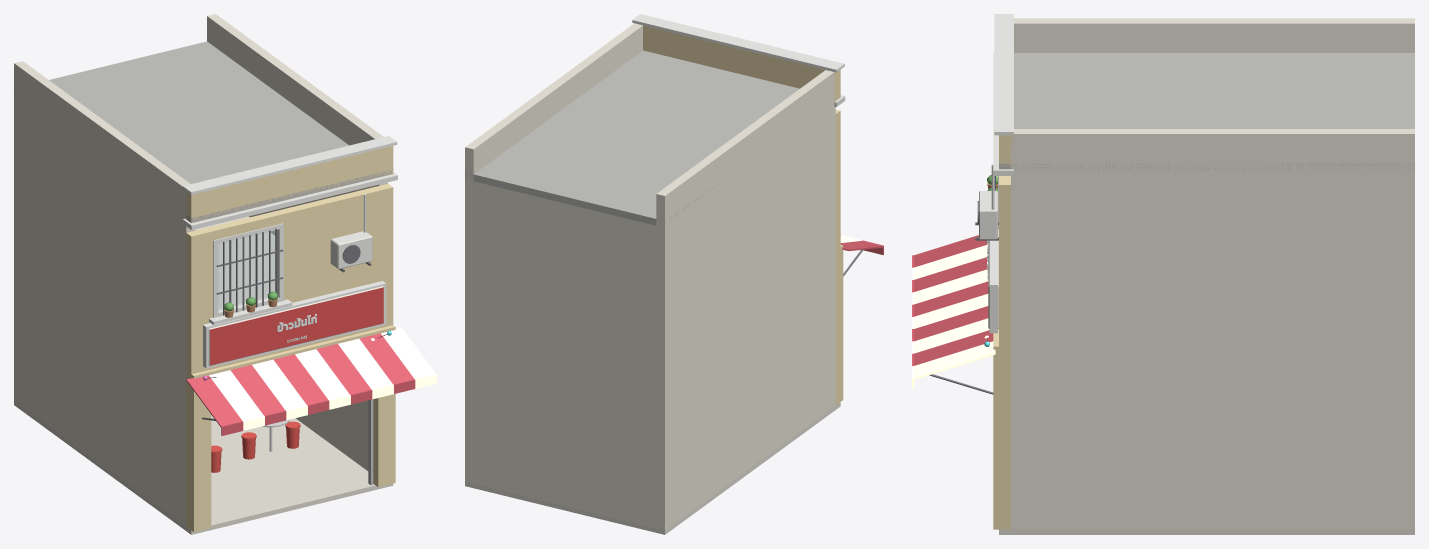
Rendered from SM_Shop_ChickenRiceHome.fbx.
3 renders of one model, left to right at view 1: azimuth 30°, elevation 25°; view 2: azimuth 150°, elevation 25°; view 3: azimuth 270°, elevation 25°, orthographic. The views are drawn at different scales.
Parts seen in each view (by area): view 1: SM_Shop_ChickenRiceHome; view 2: SM_Shop_ChickenRiceHome; view 3: SM_Shop_ChickenRiceHome.
Boxes of the visible parts, bbox=[...] form: SM_Shop_ChickenRiceHome: bbox=[14, 14, 436, 534]; SM_Shop_ChickenRiceHome: bbox=[465, 14, 883, 534]; SM_Shop_ChickenRiceHome: bbox=[912, 14, 1414, 534].
Bounding box in the file's own units: 4.9 × 7.51 × 8.47.
